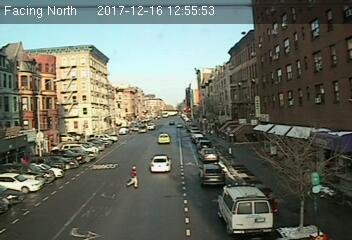car: (198, 163, 226, 188), (148, 154, 172, 174), (198, 147, 219, 162), (157, 133, 171, 145)
pedestrian: (125, 164, 140, 190)
police: (220, 182, 273, 233)
